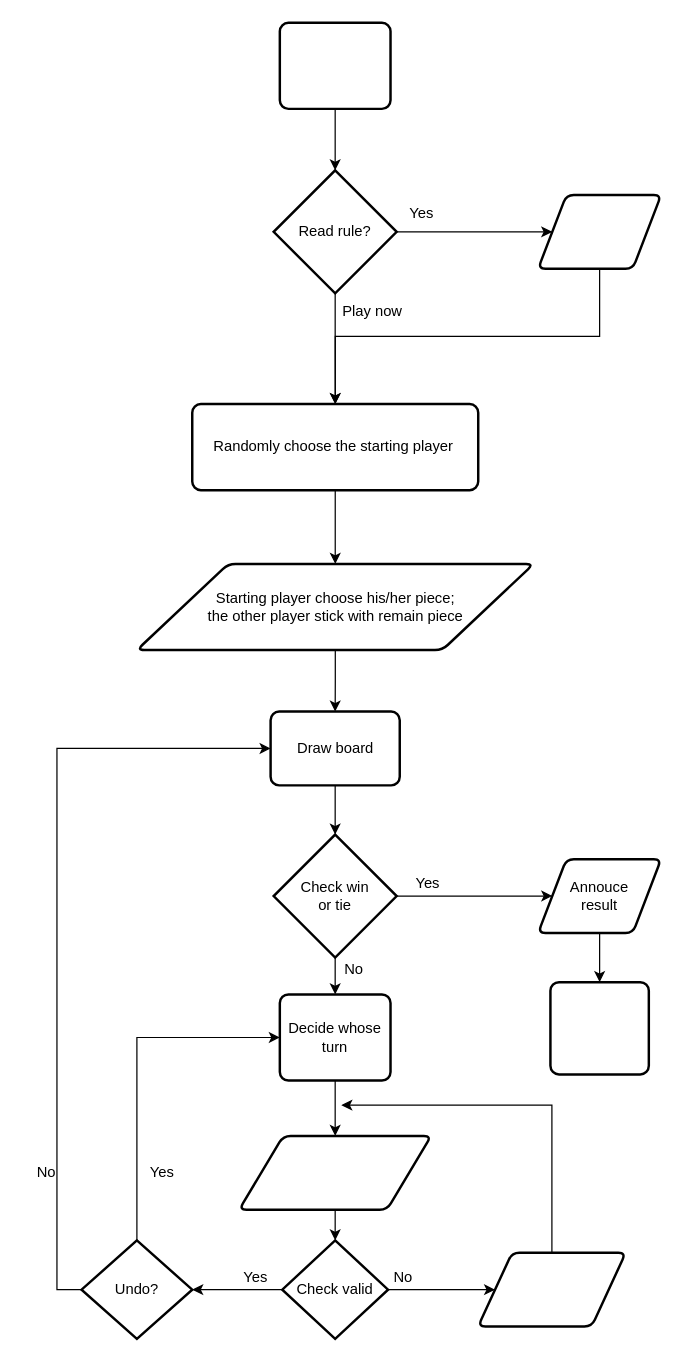
The diagram is 683 pixels wide and 1360 high, and some of its shapes have lost their labels. Here are the shapes that lost their labels. From the top down, the box of each, then its label:
(278, 21, 391, 109): Game start
(536, 193, 662, 269): Show rule
(549, 980, 649, 1075): Game end
(237, 1134, 432, 1210): Player places piece
(476, 1251, 626, 1327): Throw invalid error
